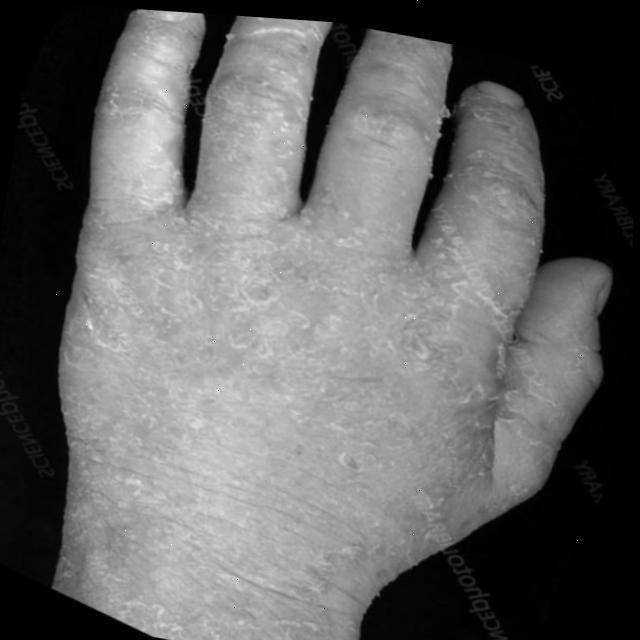Eczema: (40, 4, 567, 640)
